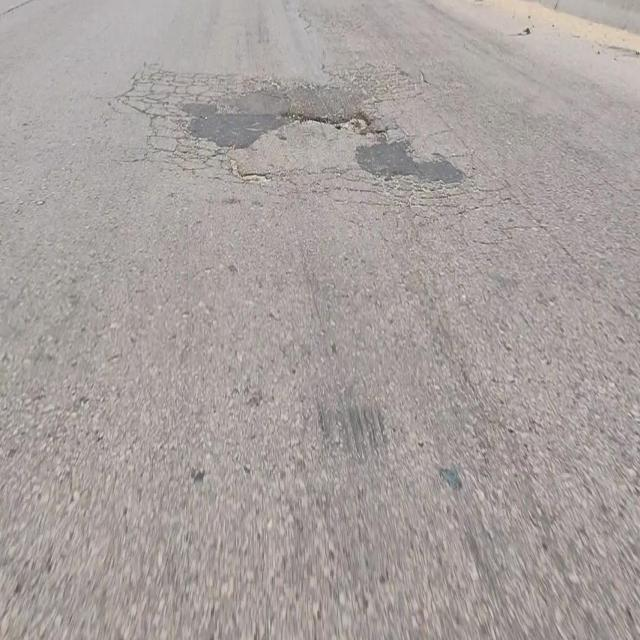Potholes: (279, 109, 386, 139)
